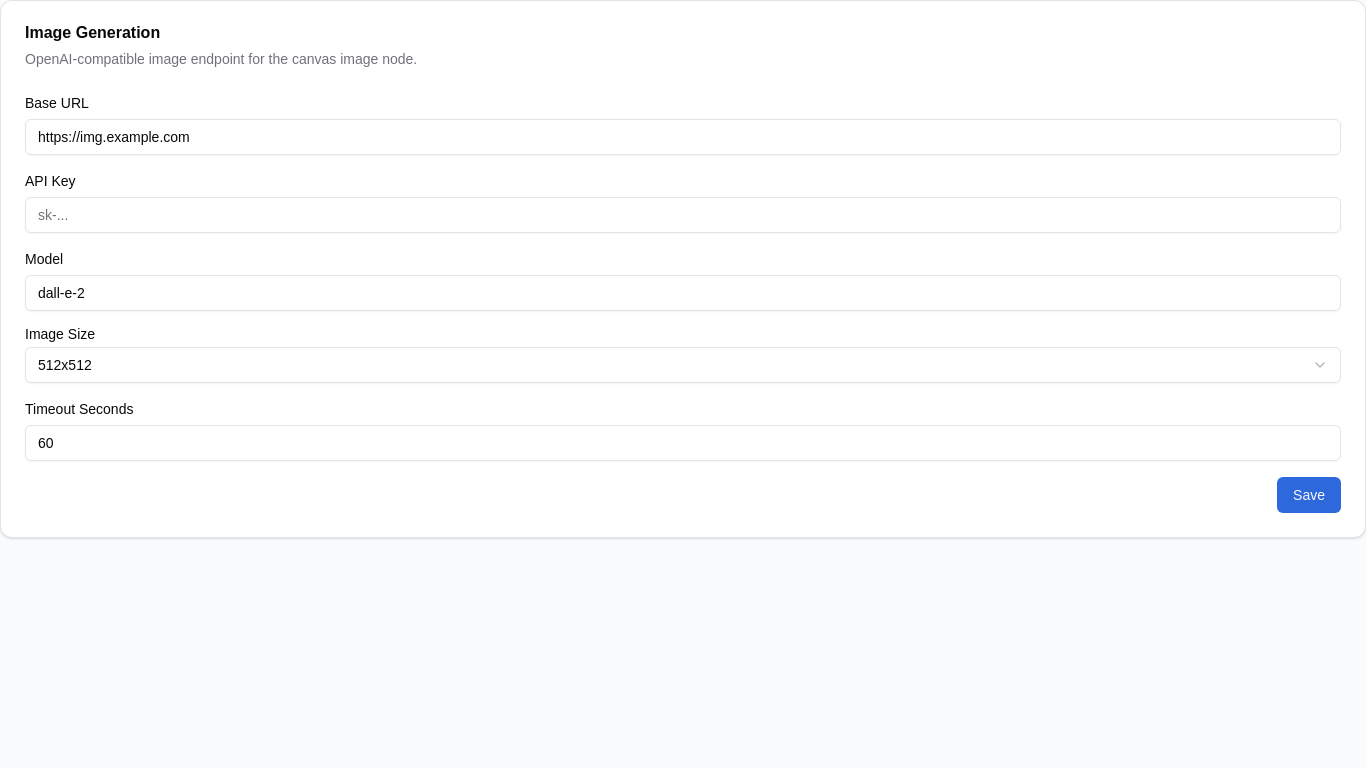
Test case: ImageSection › updates the size options and resets an out-of-family size when the model changes
Expected: the dropdown named "image size" reads "512x512", left=25, top=347, right=1341, bottom=383
Replace the text in the field labelled "Model" with "gpt-image-1" at (683, 293), box left=25, top=275, right=1341, bottom=311
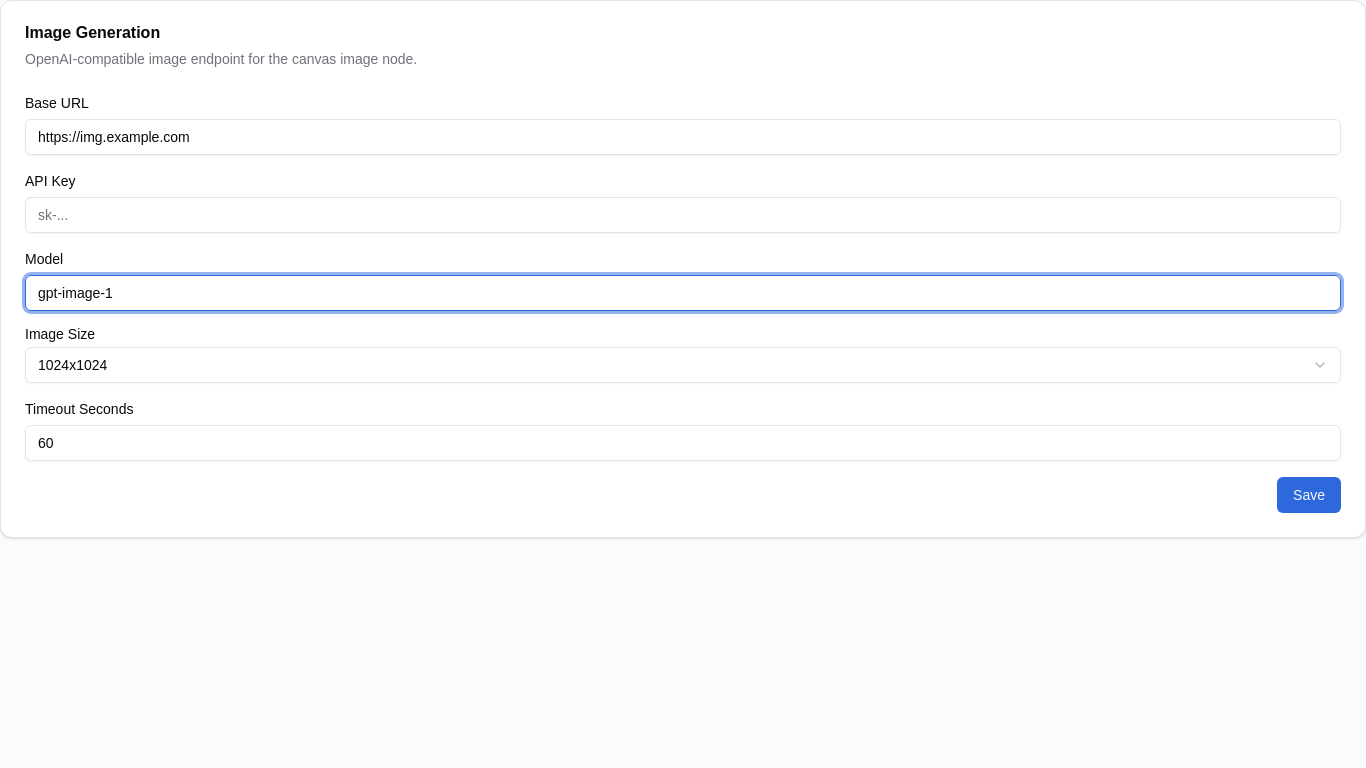
Expected: the dropdown named "image size" reads "1024x1024"
Click the dropdown named "image size" at (73, 365), box left=25, top=347, right=1341, bottom=383
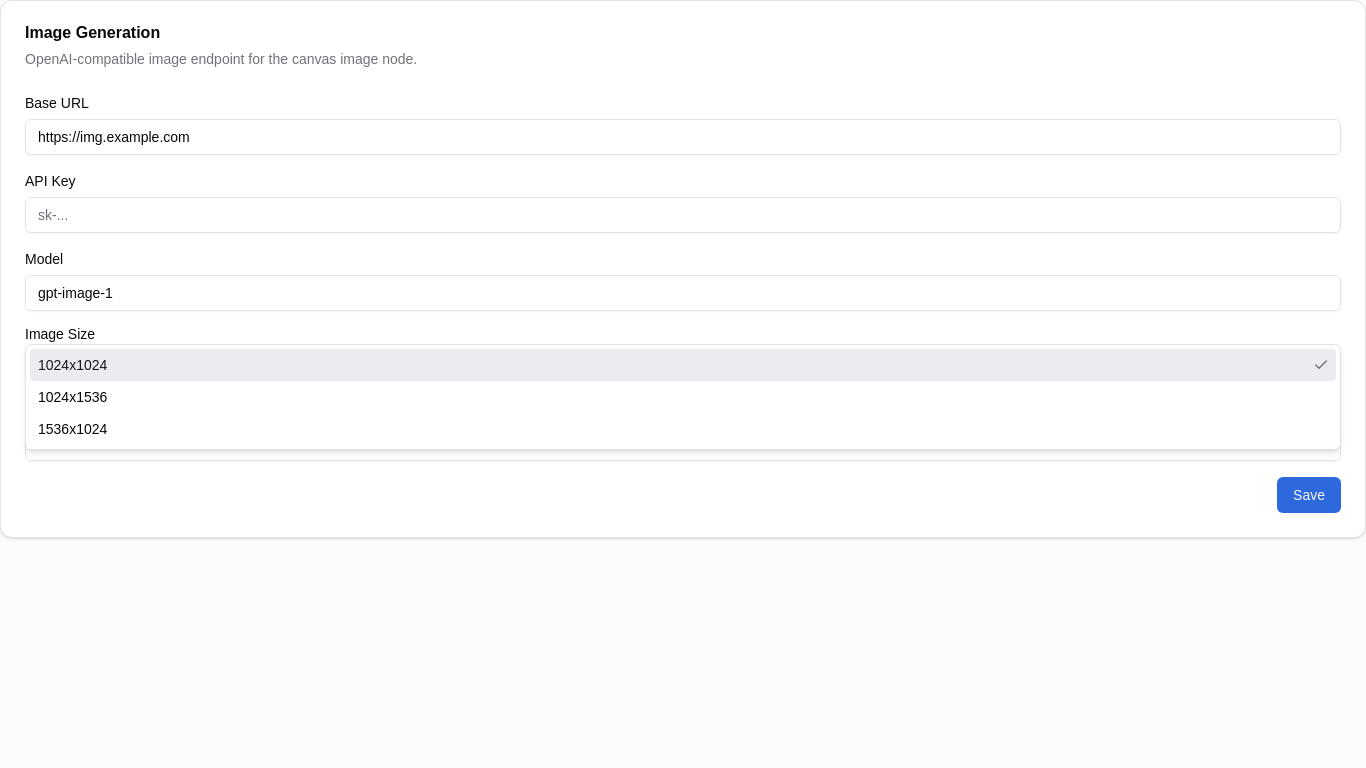
Expected: the dropdown labelled "512x512" is not shown
Expected: the option "1536x1024" is shown, left=38, top=421, right=107, bottom=437
